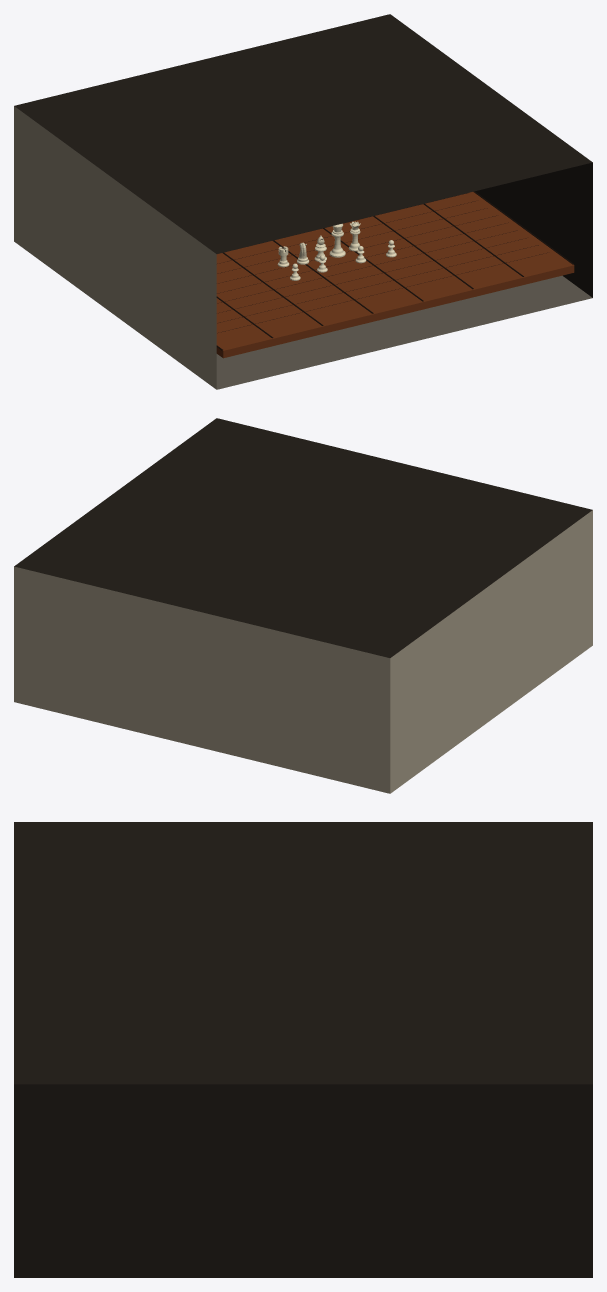
File: generated_scene.obj
3 renders of one model, top to bottom at view 1: azimuth 30°, elevation 25°; view 2: azimuth 150°, elevation 25°; view 3: azimuth 270°, elevation 25°, orthographic. The views are drawn at different scales.
Visible parts, largest first — view 1: Ceiling, TableTop, LeftWall, Floor, RightWall, TablePlankGap, WoodLine; view 2: Ceiling, BackWall, LeftWall; view 3: Ceiling, RightWall.
Boxes of the visible parts, left/top/right/bottom form: Ceiling: left=14, top=14, right=592, bottom=253; TableTop: left=216, top=192, right=574, bottom=358; LeftWall: left=14, top=106, right=216, bottom=389; Floor: left=216, top=275, right=592, bottom=389; RightWall: left=475, top=162, right=592, bottom=297; TablePlankGap: left=216, top=191, right=574, bottom=350; WoodLine: left=217, top=193, right=547, bottom=333; Ceiling: left=14, top=418, right=592, bottom=657; BackWall: left=14, top=566, right=390, bottom=793; LeftWall: left=390, top=510, right=592, bottom=793; Ceiling: left=14, top=822, right=592, bottom=1084; RightWall: left=14, top=1084, right=592, bottom=1277.
Size of the model in its own units: 9 by 3.1 by 8.4.
